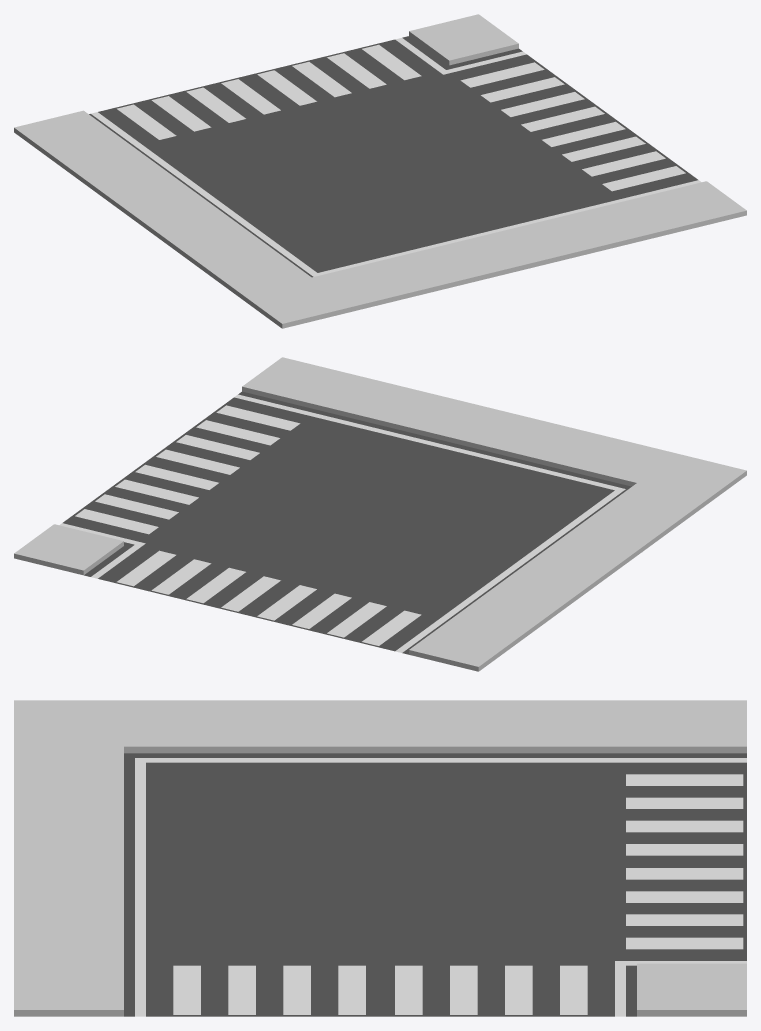
Rendered from road_corner_walkable.glb.
3 renders of one model, top to bottom at view 1: azimuth 30°, elevation 25°; view 2: azimuth 150°, elevation 25°; view 3: azimuth 270°, elevation 25°, orthographic. The views are drawn at different scales.
Parts seen in each view (by area): view 1: SPW_Urban_Road 2way_Corner_01; view 2: SPW_Urban_Road 2way_Corner_01; view 3: SPW_Urban_Road 2way_Corner_01.
Boxes of the visible parts, x1,y1,x2,y2 form: SPW_Urban_Road 2way_Corner_01: (14,14,746,328); SPW_Urban_Road 2way_Corner_01: (14,357,746,671); SPW_Urban_Road 2way_Corner_01: (14,700,746,1016).
Bounding box in the file's own units: 20 × 0.2 × 20.
1 material, 1 textured.
